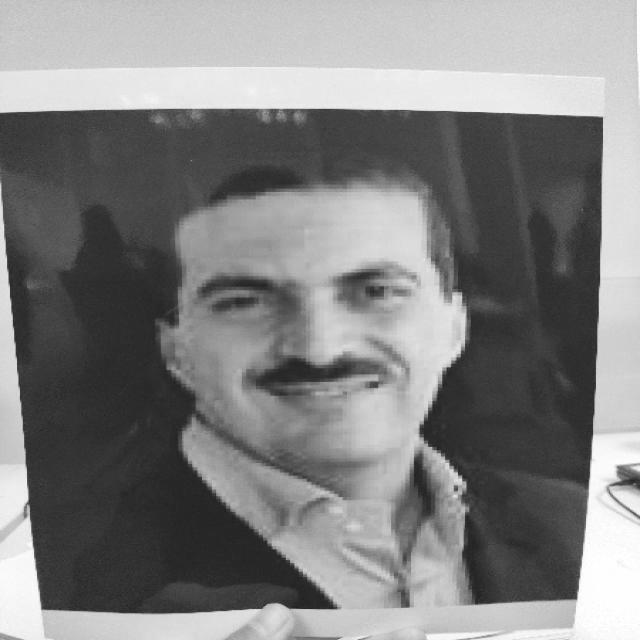fake: (3, 58, 599, 640)
